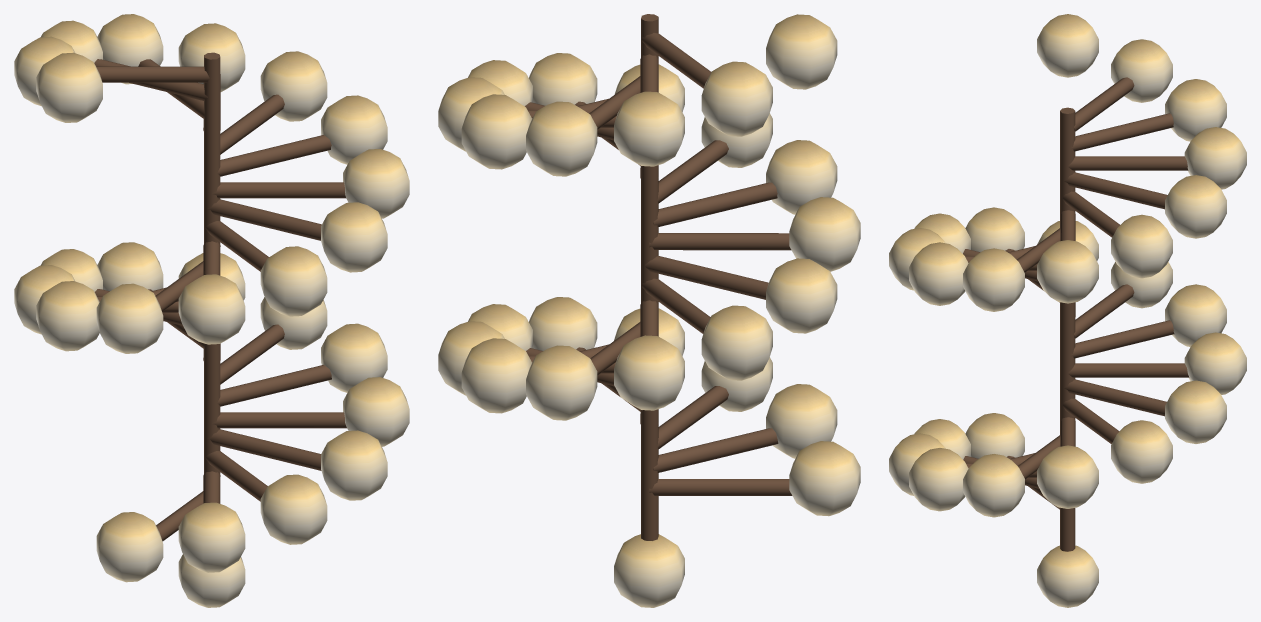
File: HangingLight_08.fbx
3 views of the same model, side by side, from view 1: azimuth 30°, elevation 25°; view 2: azimuth 150°, elevation 25°; view 3: azimuth 270°, elevation 25° (orthographic). The views are drawn at different scales.
Visible parts, largest first — view 1: SphericalHangingLight.001, SphericalHangingLight.003, CylidricalHangingLight.078, SphericalHangingLight.002, CylidricalHangingLight.088, CylidricalHangingLight.068, CylidricalHangingLight.087, CylidricalHangingLight.067, CylidricalHangingLight.089, CylidricalHangingLight.069, CylidricalHangingLight.062, CylidricalHangingLight.086 (+10 smaller); view 2: SphericalHangingLight.003, SphericalHangingLight.001, SphericalHangingLight.002, CylidricalHangingLight.072, CylidricalHangingLight.092, CylidricalHangingLight.071, CylidricalHangingLight.091, CylidricalHangingLight.080, CylidricalHangingLight.081, CylidricalHangingLight.090, CylidricalHangingLight.070, CylidricalHangingLight.062 (+7 smaller); view 3: SphericalHangingLight.001, SphericalHangingLight.003, SphericalHangingLight.002, CylidricalHangingLight.084, CylidricalHangingLight.064, CylidricalHangingLight.083, CylidricalHangingLight.063, CylidricalHangingLight.065, CylidricalHangingLight.085, CylidricalHangingLight.079, CylidricalHangingLight.078, CylidricalHangingLight.082 (+6 smaller).
Part boxes in pixels (box(x1,y1,x2,y2)): SphericalHangingLight.001: box(14, 14, 409, 353); SphericalHangingLight.003: box(14, 242, 409, 582); CylidricalHangingLight.078: box(204, 52, 220, 229); SphericalHangingLight.002: box(178, 554, 245, 607); CylidricalHangingLight.088: box(212, 412, 346, 428); CylidricalHangingLight.068: box(212, 182, 345, 198); CylidricalHangingLight.087: box(217, 365, 331, 406); CylidricalHangingLight.067: box(217, 135, 331, 176); CylidricalHangingLight.089: box(207, 429, 321, 470); CylidricalHangingLight.069: box(207, 199, 321, 240); CylidricalHangingLight.062: box(96, 66, 211, 82); CylidricalHangingLight.086: box(219, 324, 284, 384); SphericalHangingLight.003: box(438, 258, 860, 516); SphericalHangingLight.001: box(438, 14, 860, 271); SphericalHangingLight.002: box(614, 534, 684, 607); CylidricalHangingLight.072: box(649, 233, 791, 250); CylidricalHangingLight.092: box(649, 479, 792, 495); CylidricalHangingLight.071: box(653, 182, 777, 227); CylidricalHangingLight.091: box(653, 428, 778, 472); CylidricalHangingLight.080: box(641, 409, 658, 540); CylidricalHangingLight.081: box(645, 256, 768, 299); CylidricalHangingLight.090: box(657, 386, 728, 449); CylidricalHangingLight.070: box(657, 140, 728, 203); CylidricalHangingLight.062: box(641, 33, 711, 88); SphericalHangingLight.001: box(889, 14, 1246, 311); SphericalHangingLight.003: box(889, 221, 1246, 517); SphericalHangingLight.002: box(1037, 545, 1098, 607); CylidricalHangingLight.084: box(1068, 363, 1189, 377); CylidricalHangingLight.064: box(1068, 156, 1188, 170); CylidricalHangingLight.083: box(1071, 320, 1174, 358); CylidricalHangingLight.063: box(1071, 113, 1173, 151); CylidricalHangingLight.065: box(1064, 172, 1167, 209); CylidricalHangingLight.085: box(1064, 379, 1166, 416); CylidricalHangingLight.079: box(1060, 302, 1075, 419); CylidricalHangingLight.078: box(1060, 107, 1075, 227); CylidricalHangingLight.082: box(1074, 284, 1134, 338).
Size of the model in its own units: 386 by 624 by 386.
